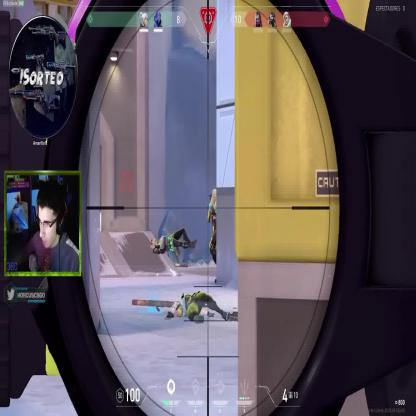enemy: (206, 188, 229, 274)
enemy_head: (211, 190, 219, 209)
